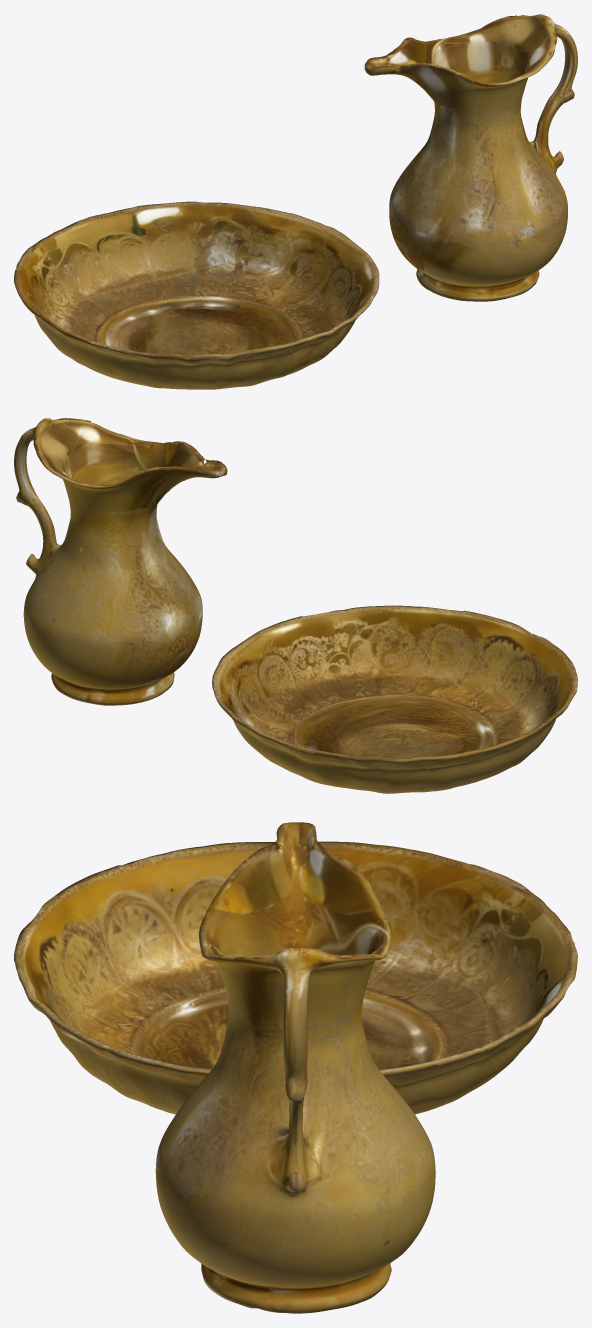
The model's file is turkish_bowl_pitcher_bronze.glb.
The picture shows the model from 3 angles, top to bottom: view 1: azimuth 30°, elevation 25°; view 2: azimuth 150°, elevation 25°; view 3: azimuth 270°, elevation 25°; orthographic projection. The views are drawn at different scales.
Bounding box in the file's own units: 2 × 0.8856 × 1.18.
1 material, 1 textured.
